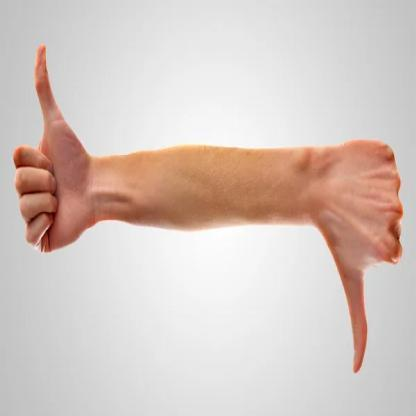thumb_down: (320, 131, 404, 374)
thumb_up: (10, 35, 100, 255)
